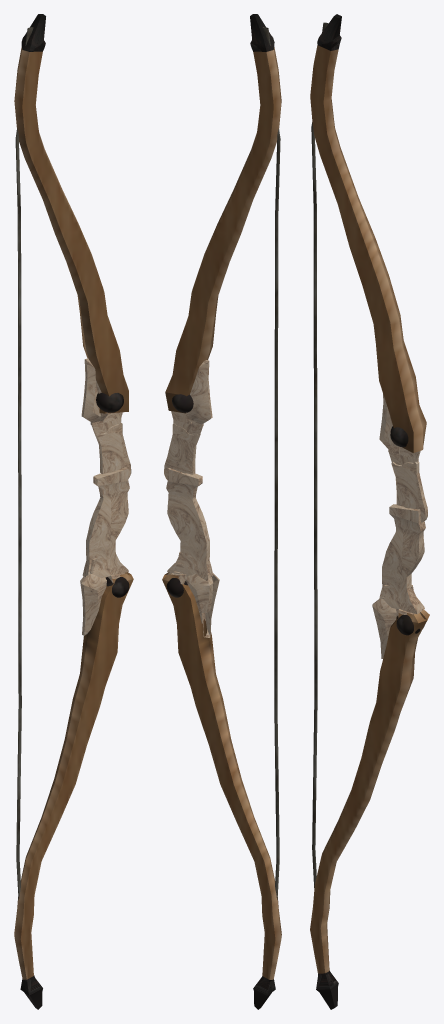
Rendered from recurve-bow.glb.
The picture shows the model from 3 angles, left to right: view 1: azimuth 30°, elevation 25°; view 2: azimuth 150°, elevation 25°; view 3: azimuth 330°, elevation 25°; orthographic projection.
Parts seen in each view (by area): view 1: recurve bow; view 2: recurve bow; view 3: recurve bow.
Boxes of the visible parts, box(x1,y1,x2,y2) form: recurve bow: box(14, 14, 133, 1009); recurve bow: box(162, 14, 281, 1009); recurve bow: box(310, 14, 429, 1009).
Size of the model in its own units: 0.5836 by 4.74 by 0.1537.
Materials: 5 (5 with a texture image).
